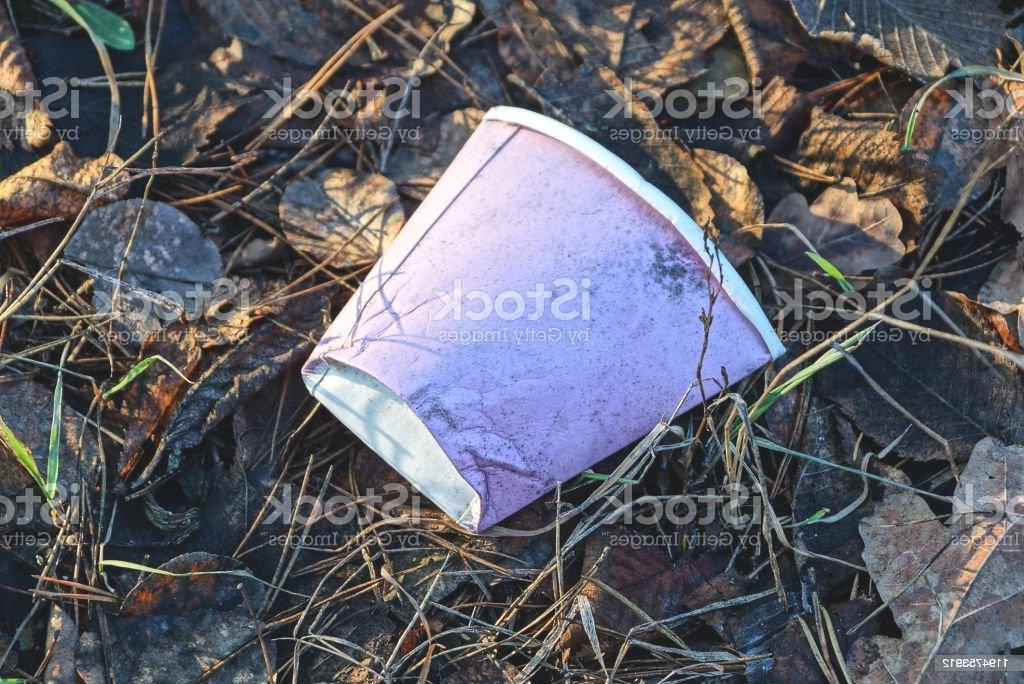garbage: (300, 107, 785, 533)
